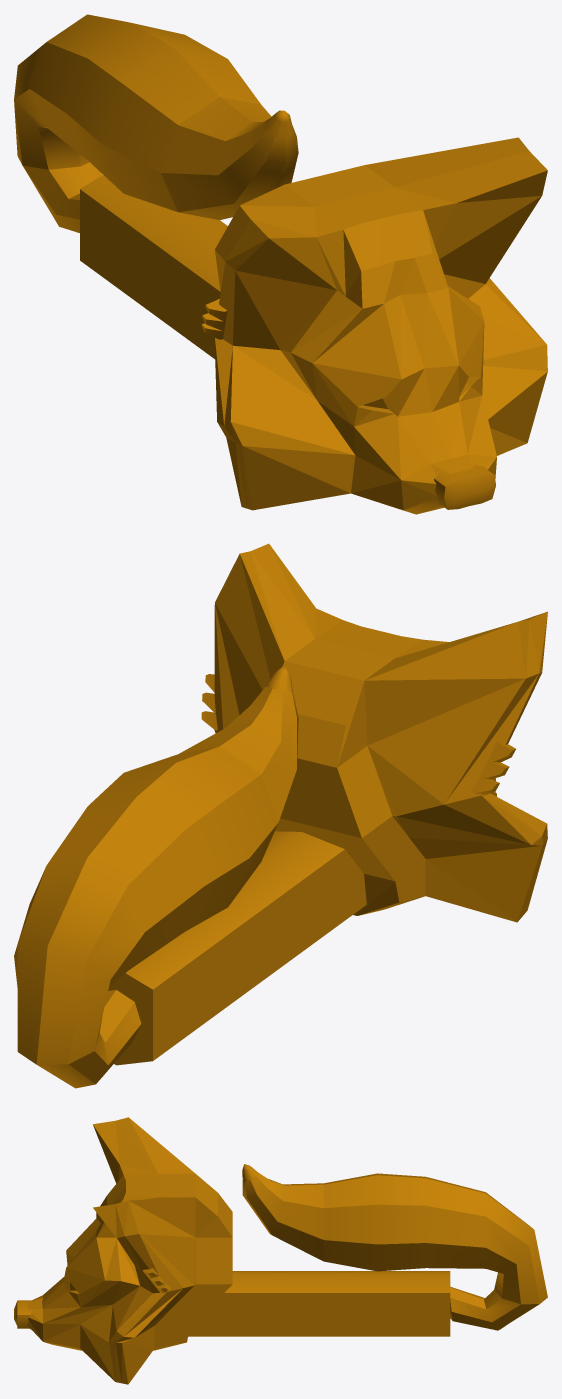
File: Metamask_Gun_EXP.fbx
3 renders of one model, top to bottom at view 1: azimuth 30°, elevation 25°; view 2: azimuth 150°, elevation 25°; view 3: azimuth 270°, elevation 25°, orthographic. The views are drawn at different scales.
Visible parts, largest first — view 1: Fox_Face, Fox_Tail, Fox_Body, Fox_Tailtip, Fox_Nose, Fox_Earfluff; view 2: Fox_Face, Fox_Tail, Fox_Body, Fox_Tailtip, Fox_Earfluff; view 3: Fox_Face, Fox_Tail, Fox_Body, Fox_Tailtip, Fox_Nose.
Part boxes in pixels (box(x1,y1,x2,y2)): Fox_Face: box(214, 137, 547, 510); Fox_Tail: box(14, 14, 260, 232); Fox_Body: box(80, 175, 227, 359); Fox_Tailtip: box(161, 97, 298, 220); Fox_Nose: box(434, 465, 495, 509); Fox_Earfluff: box(201, 298, 227, 339); Fox_Face: box(214, 543, 547, 922); Fox_Tail: box(14, 746, 278, 1088); Fox_Body: box(108, 831, 366, 1065); Fox_Tailtip: box(179, 665, 298, 821); Fox_Earfluff: box(201, 674, 515, 795); Fox_Face: box(27, 1117, 232, 1384); Fox_Tail: box(323, 1173, 547, 1330); Fox_Body: box(188, 1271, 450, 1336); Fox_Tailtip: box(242, 1164, 323, 1261); Fox_Nose: box(14, 1300, 31, 1328).
Bounding box in the file's own units: 82.99 × 75.28 × 197.
